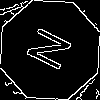N: (25, 25, 82, 78)
